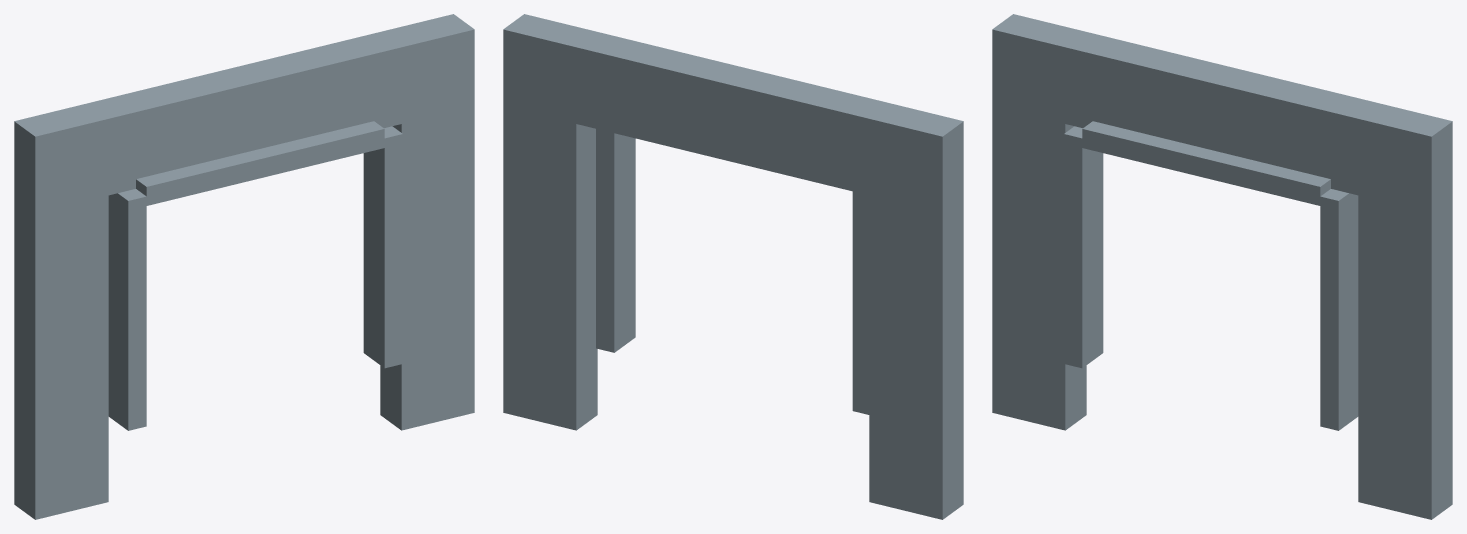
File: doorway.glb
The picture shows the model from 3 angles, left to right: view 1: azimuth 30°, elevation 25°; view 2: azimuth 150°, elevation 25°; view 3: azimuth 330°, elevation 25°; orthographic projection.
Visible parts, largest first — view 1: doorway; view 2: doorway; view 3: doorway.
Boxes of the visible parts, box(x1,y1,x2,y2) form: doorway: box(14, 14, 474, 519); doorway: box(503, 14, 963, 519); doorway: box(992, 14, 1452, 519).
Size of the model in its own units: 3 by 2.5 by 0.375.
